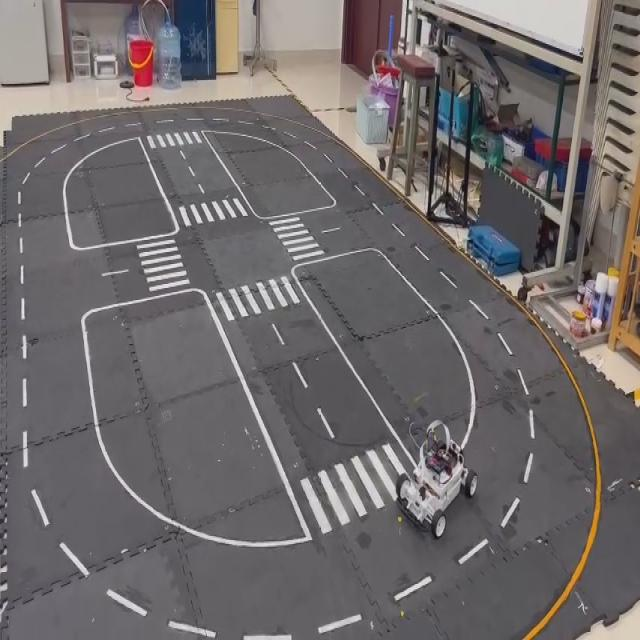SiCo-CAR: (394, 417, 478, 539)
